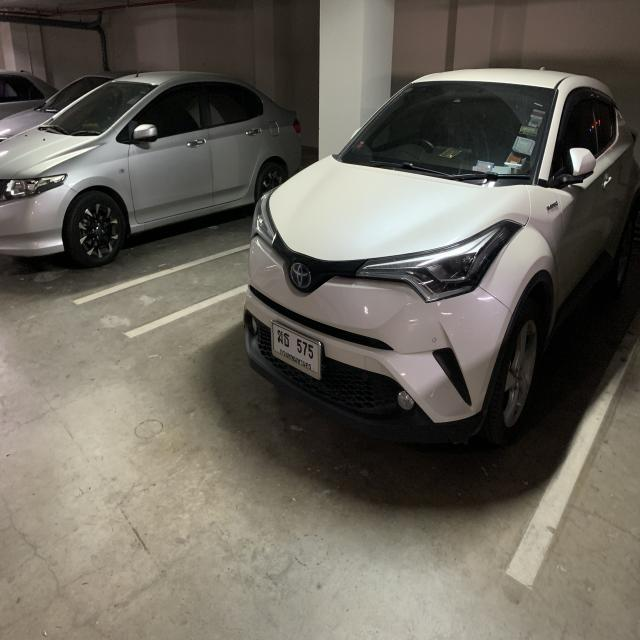license_plate: (270, 321, 324, 384)
